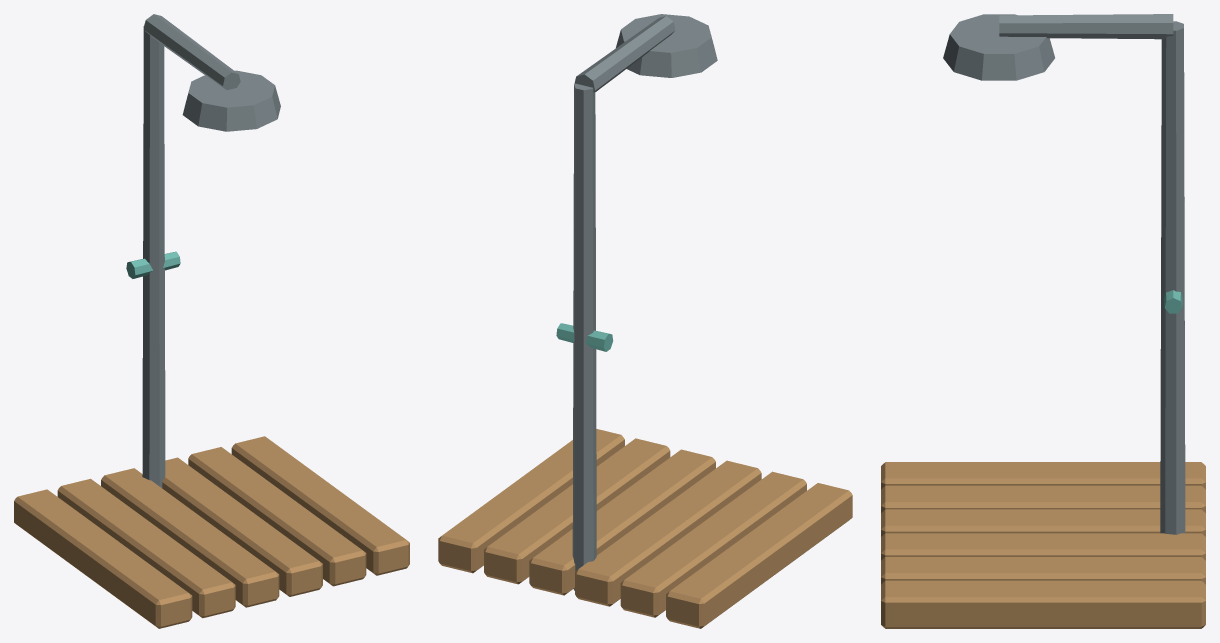
Rendered from CC_Shower.fbx.
3 views of the same model, side by side, from view 1: azimuth 30°, elevation 25°; view 2: azimuth 150°, elevation 25°; view 3: azimuth 270°, elevation 25° (orthographic). The views are drawn at different scales.
Parts seen in each view (by area): view 1: Supply, Drain slat, Drain slat.002, Drain slat.004, Drain slat.001, Drain slat.005, Drain slat.003, Shower head, Arm.001, Valve; view 2: Supply, Drain slat, Drain slat.001, Drain slat.002, Drain slat.003, Drain slat.005, Drain slat.004, Shower head, Arm.001, Valve; view 3: Drain slat.005, Supply, Drain slat.004, Drain slat.003, Drain slat.001, Drain slat.002, Drain slat, Shower head, Arm.001.
Part boxes in pixels (x1,y1,x2,y2): Supply: (142, 23, 165, 487); Drain slat: (14, 489, 192, 628); Drain slat.002: (101, 468, 279, 607); Drain slat.004: (188, 447, 366, 586); Drain slat.001: (57, 478, 235, 618); Drain slat.005: (231, 436, 409, 575); Drain slat.003: (162, 457, 322, 596); Shower head: (182, 70, 280, 131); Arm.001: (144, 14, 240, 90); Valve: (126, 251, 180, 278); Supply: (572, 83, 596, 590); Drain slat: (666, 483, 852, 628); Drain slat.001: (620, 471, 806, 617); Drain slat.002: (575, 460, 761, 606); Drain slat.003: (529, 449, 715, 595); Drain slat.005: (438, 429, 624, 573); Drain slat.004: (484, 438, 670, 584); Shower head: (616, 14, 717, 77); Arm.001: (574, 16, 675, 92); Valve: (556, 323, 613, 351); Drain slat.005: (881, 580, 1205, 628); Supply: (1160, 21, 1185, 534); Drain slat.004: (881, 557, 1205, 584); Drain slat.003: (881, 533, 1205, 560); Drain slat.001: (881, 485, 1205, 512); Drain slat.002: (881, 509, 1205, 536); Drain slat: (881, 462, 1205, 489); Shower head: (943, 14, 1054, 80); Arm.001: (999, 14, 1173, 39).
Size of the model in its own units: 1.11 by 2.05 by 1.1.
